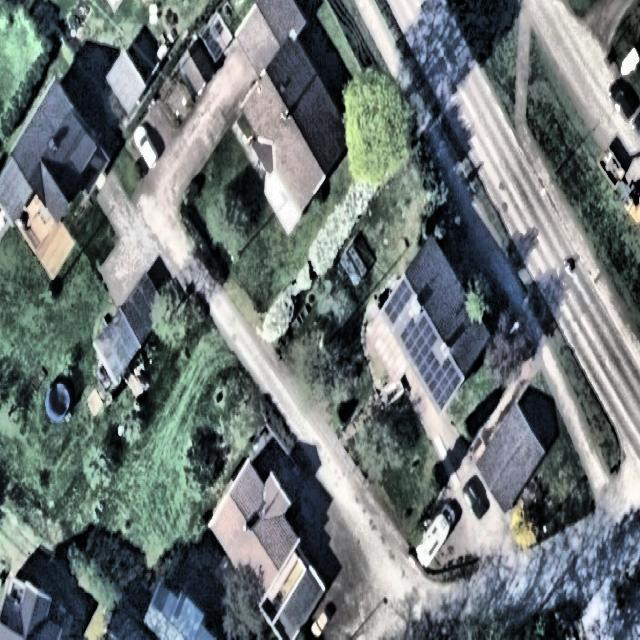roof_pv: (418, 352, 462, 410), (402, 313, 438, 365), (382, 276, 414, 324)
